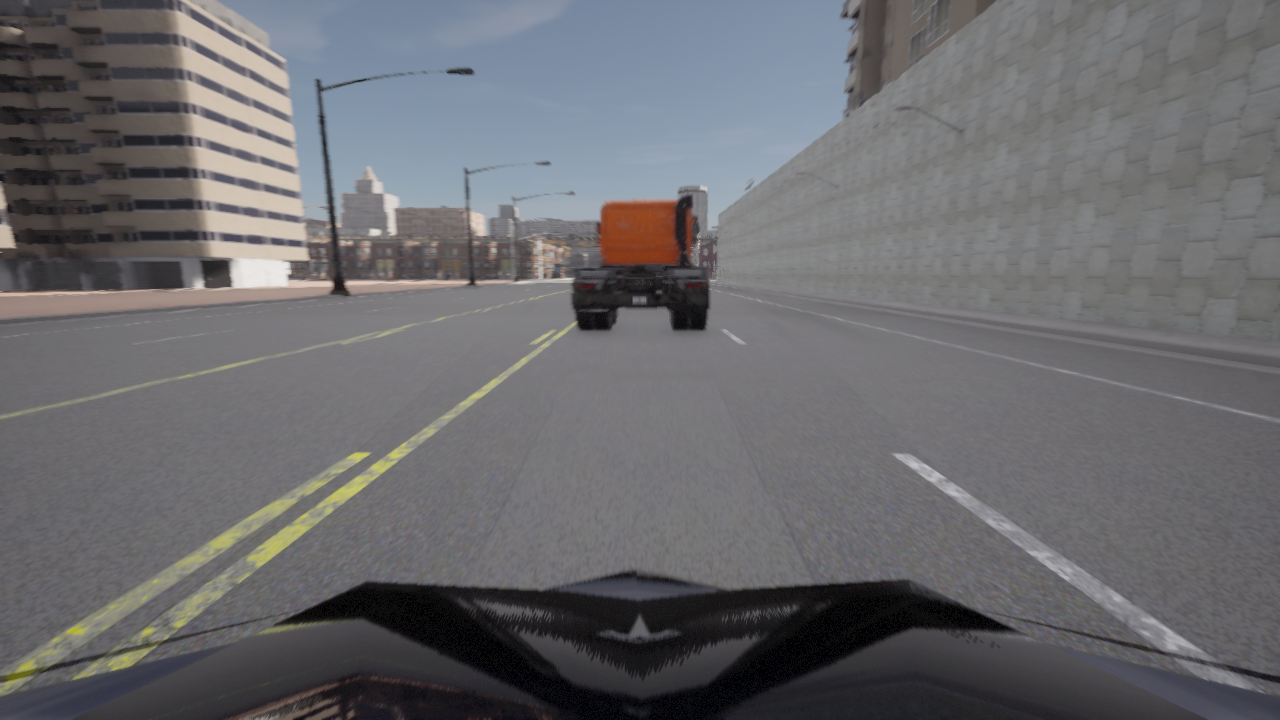cyclist: (0, 569, 1279, 719), (572, 195, 709, 329)
